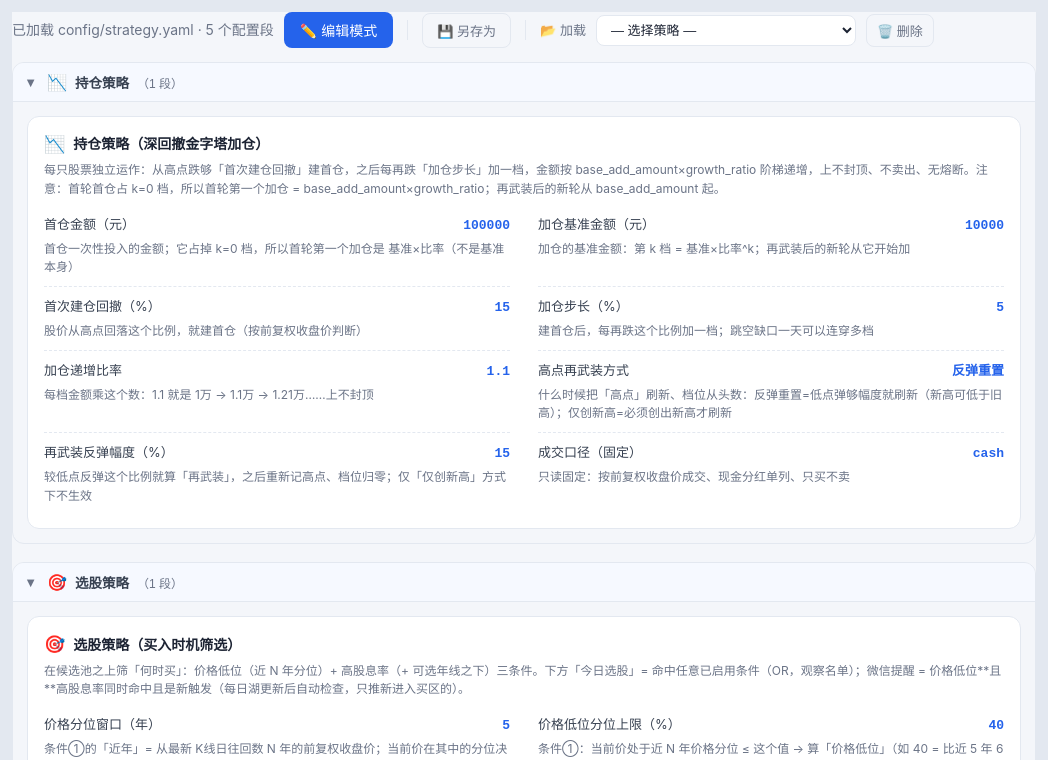
Test: v7 · 23 字段页渲染（strategy 8 + universe 10 + timing 5；name 隐藏；lake/datasource 不渲染） › 只读态：accounting 显示 cash；编辑态：17 个 number input（strategy 6 + universe 7 + timing 4），accounting 仍只读
expect the text with class "s-val" reads "cash": met, box [973,446,1004,461]
Click the button with id "btn-strategy-edit": [339, 30] box [284,12,393,48]
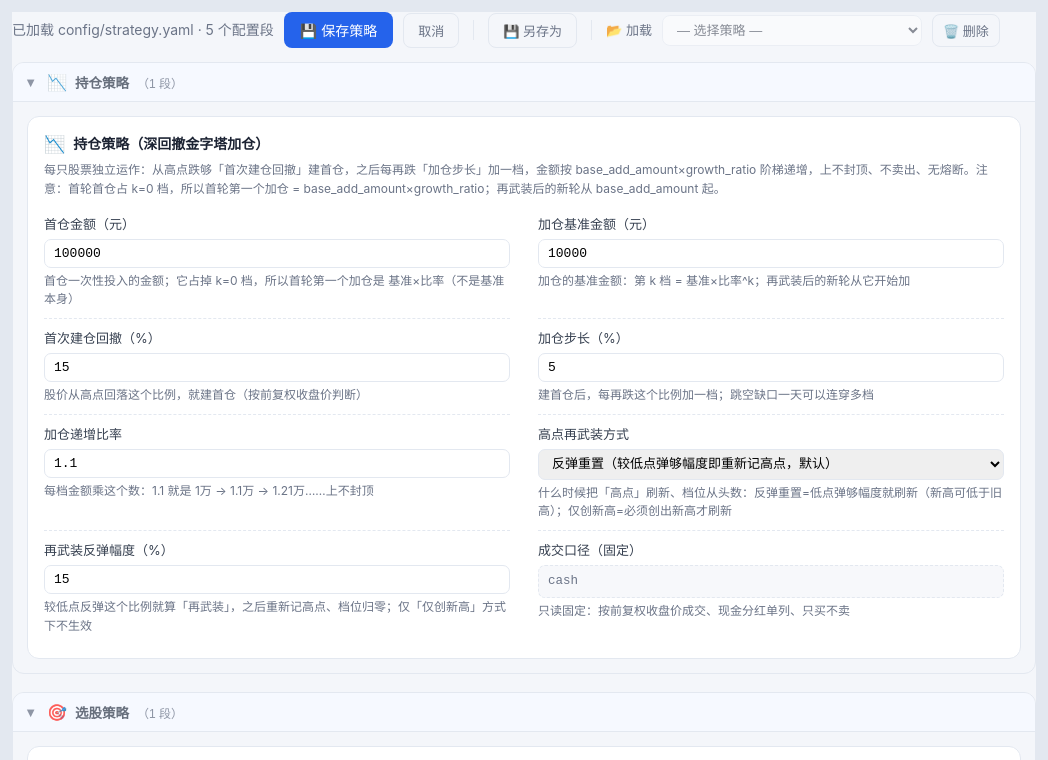
expect the text with class "s-readonly" reads "cash": met, box [548,574,578,588]
expect the number of number fields is 17: met
